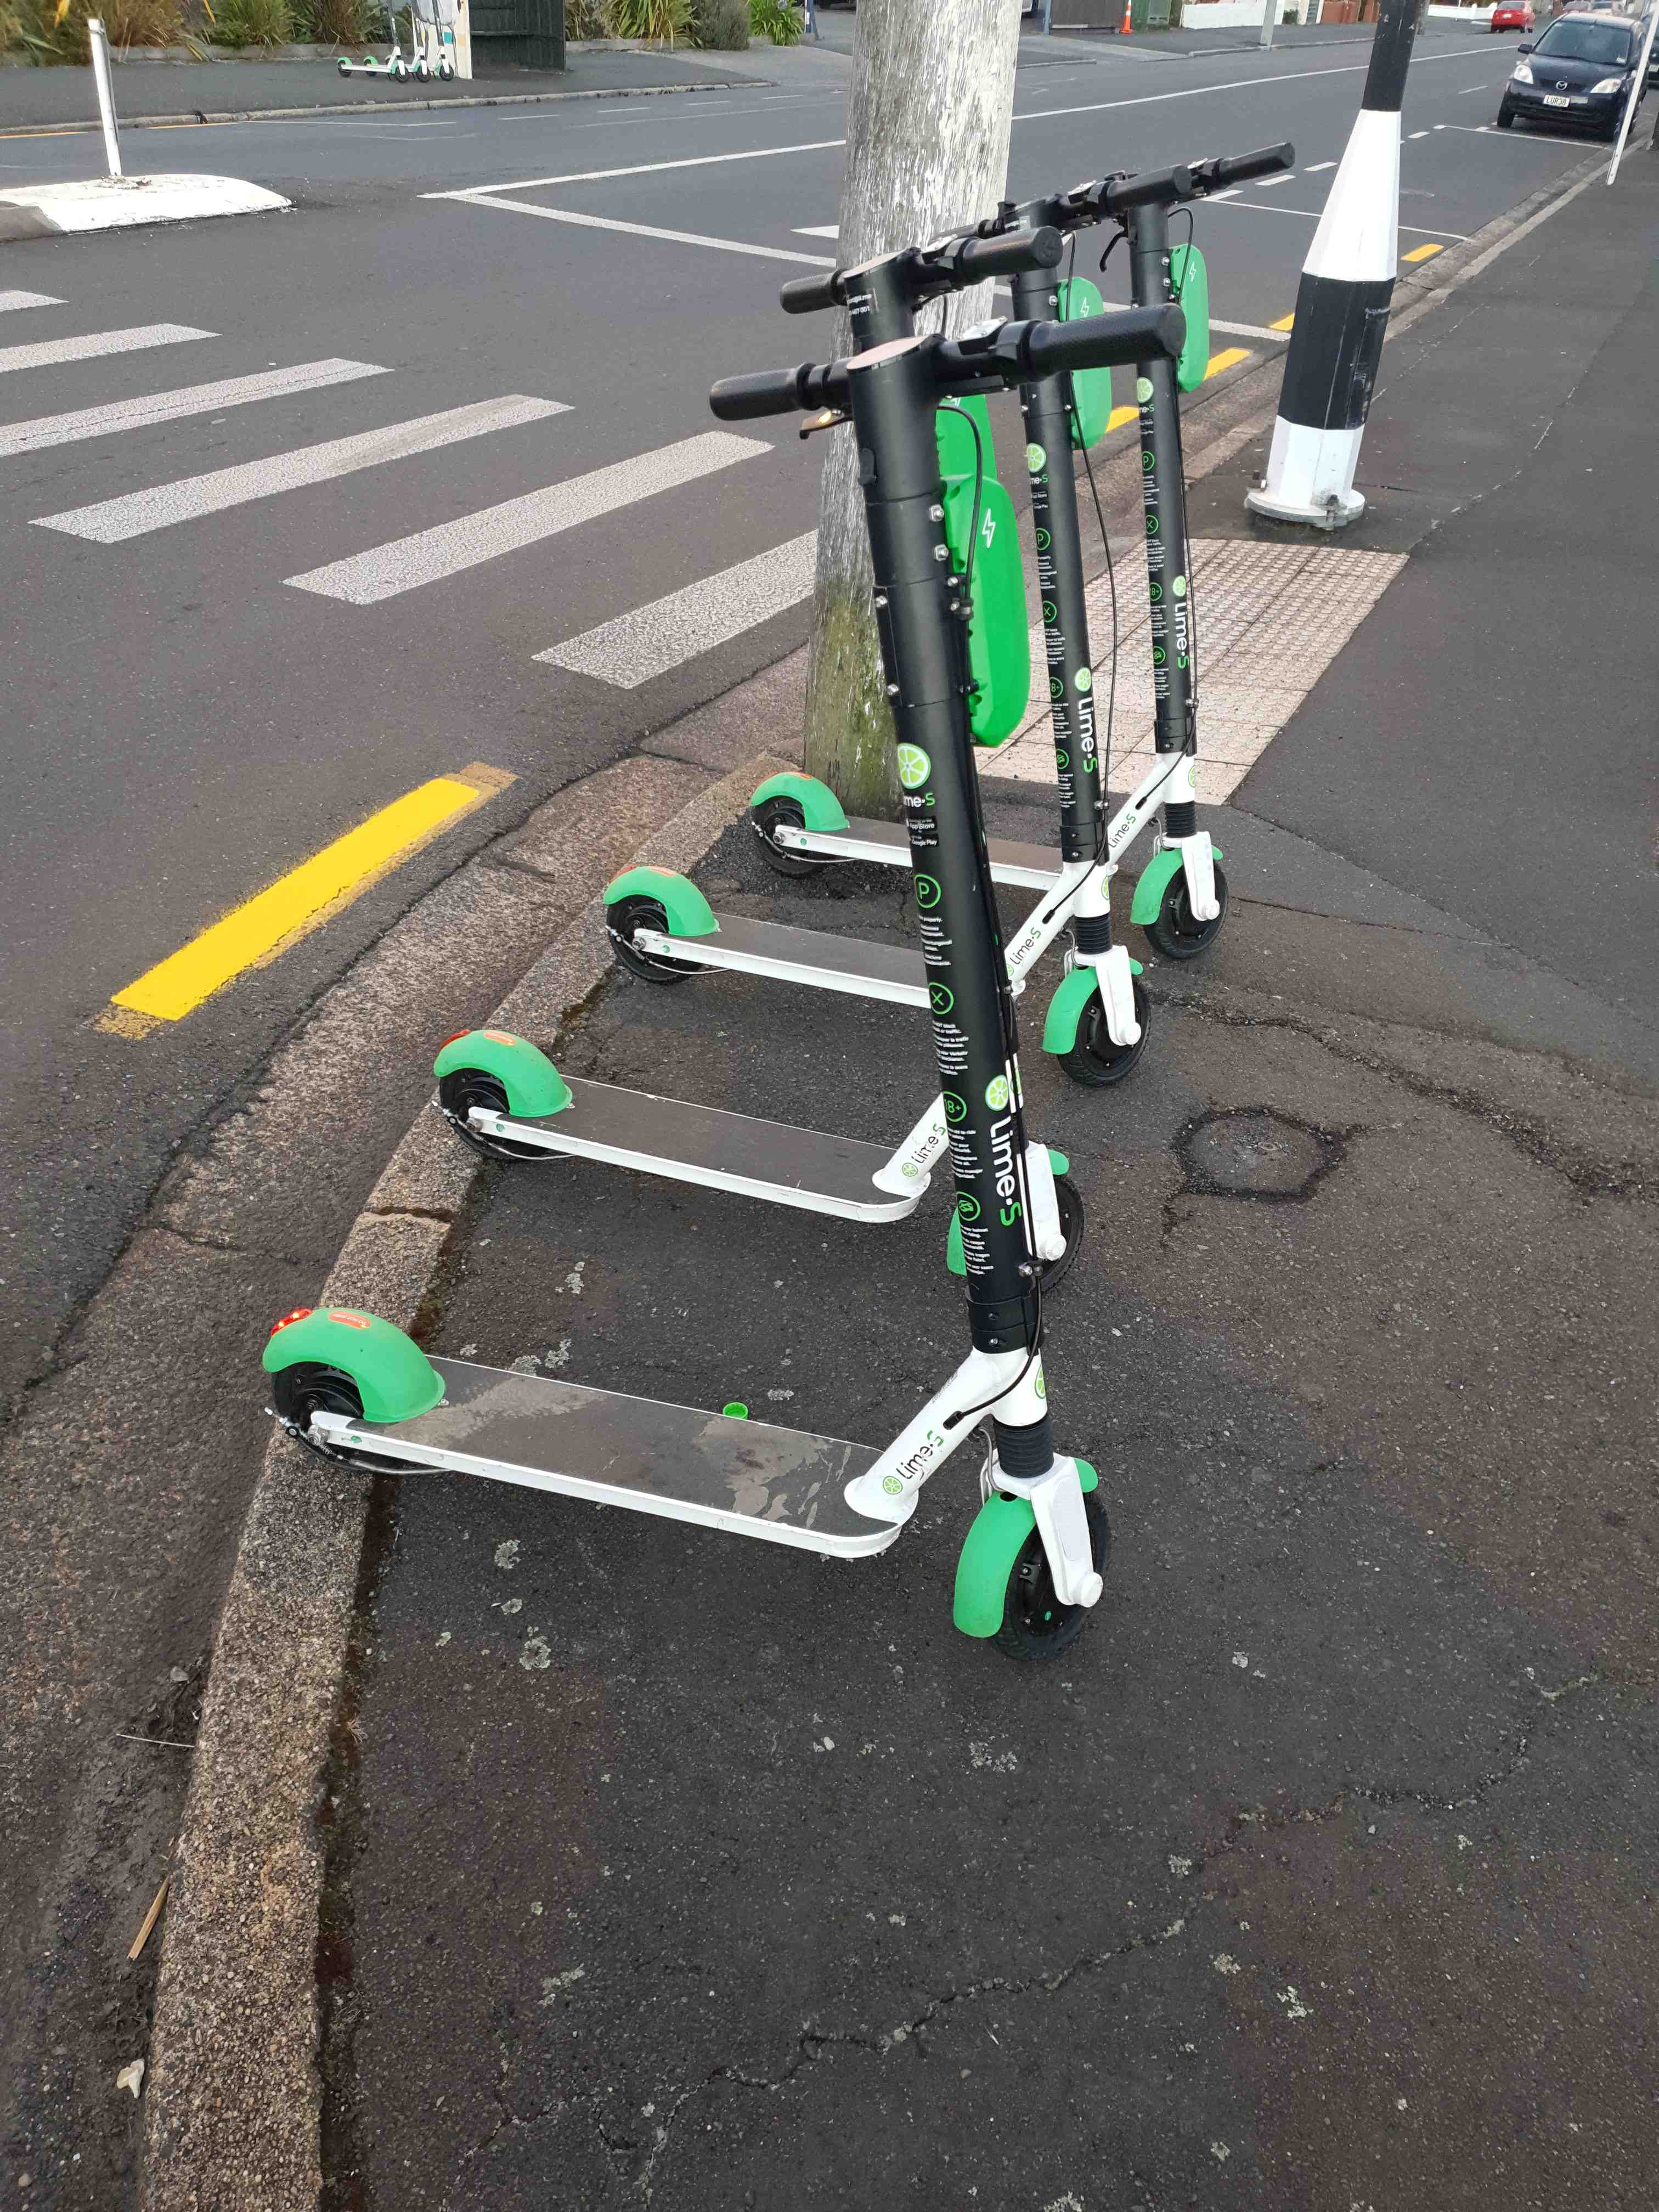too close: (213, 1282, 533, 1550), (347, 1000, 622, 1224), (526, 833, 767, 1021)
